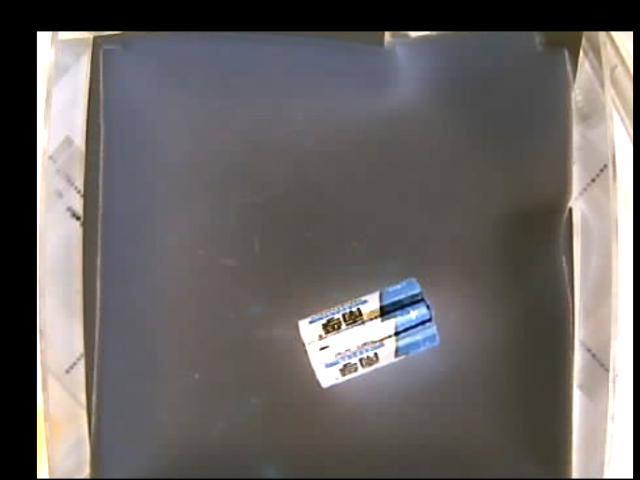Battery: (298, 276, 441, 387)
